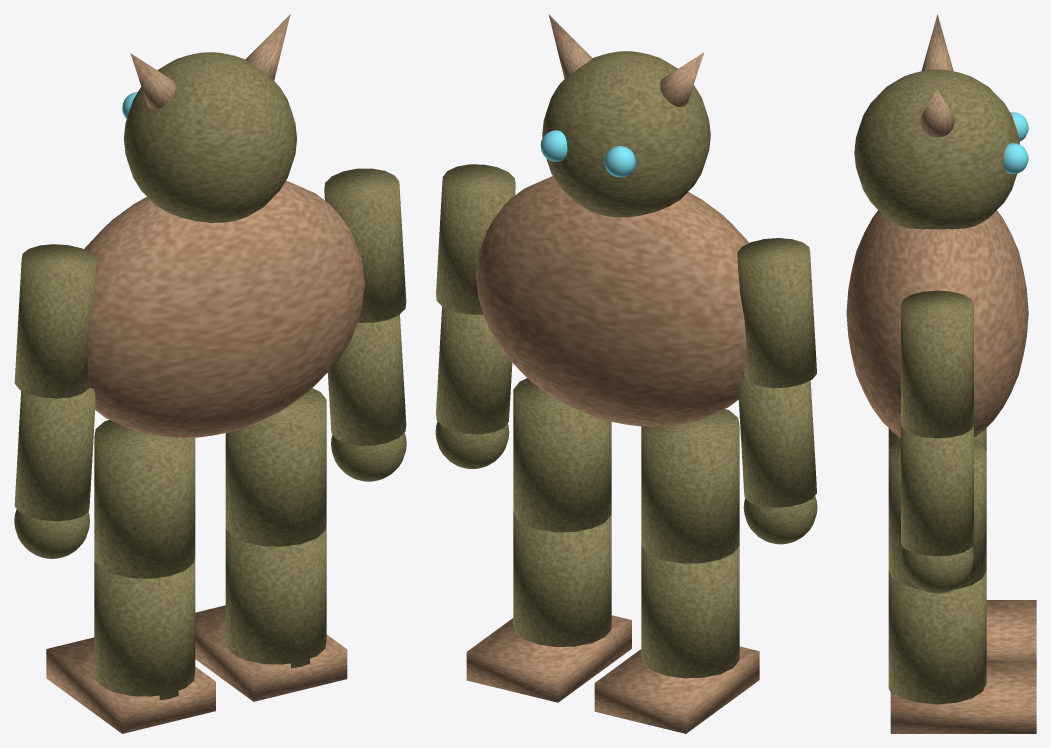
The model's file is ugallu.glb.
3 views of the same model, side by side, from view 1: azimuth 30°, elevation 25°; view 2: azimuth 150°, elevation 25°; view 3: azimuth 270°, elevation 25° (orthographic). The views are drawn at different scales.
Parts seen in each view (by area): view 1: Torso, Head, ThighL, ThighR, ShinL, ShinR, UpperArmL, ForearmL, ForearmR, UpperArmR, FootL, FootR (+4 smaller); view 2: Torso, Head, ThighL, ThighR, ShinL, ShinR, UpperArmL, ForearmL, FootL, FootR, ForearmR, UpperArmR (+6 smaller); view 3: Torso, Head, ShinR, UpperArmR, ForearmR, FootR, ThighR, FootL, HandR, Horn.001, Horn, Eye.001.
Boxes of the visible parts, box(x1,y1,x2,y2) form: Torso: box(84, 180, 364, 438); Head: box(124, 52, 296, 222); ThighL: box(94, 420, 195, 578); ThighR: box(225, 388, 326, 546); ShinL: box(94, 556, 195, 700); ShinR: box(225, 524, 326, 668); UpperArmL: box(14, 244, 96, 398); ForearmL: box(14, 388, 95, 521); ForearmR: box(327, 314, 406, 445); UpperArmR: box(324, 168, 406, 322); FootL: box(46, 637, 215, 733); FootR: box(195, 605, 347, 701); Torso: box(476, 176, 749, 426); Head: box(542, 51, 710, 217); ThighL: box(641, 409, 739, 563); ThighR: box(513, 378, 611, 532); ShinL: box(641, 542, 739, 678); ShinR: box(513, 509, 611, 646); UpperArmL: box(737, 238, 816, 388); ForearmL: box(738, 378, 816, 507); FootL: box(594, 646, 759, 733); FootR: box(466, 615, 631, 702); ForearmR: box(436, 306, 512, 434); UpperArmR: box(436, 164, 515, 314); Torso: box(846, 210, 1028, 437); Head: box(854, 69, 1019, 229); ShinR: box(888, 571, 986, 704); UpperArmR: box(901, 290, 973, 438); ForearmR: box(901, 425, 973, 556); FootR: box(890, 661, 1036, 733); ThighR: box(888, 439, 986, 589); FootL: box(986, 600, 1036, 661); HandR: box(901, 547, 973, 593); Horn.001: box(920, 89, 954, 137); Horn: box(921, 14, 953, 71); Eye.001: box(1003, 143, 1028, 174).
Bounding box in the file's own units: 0.5982 × 0.9793 × 0.2679.
Materials: 4 (3 with a texture image).
